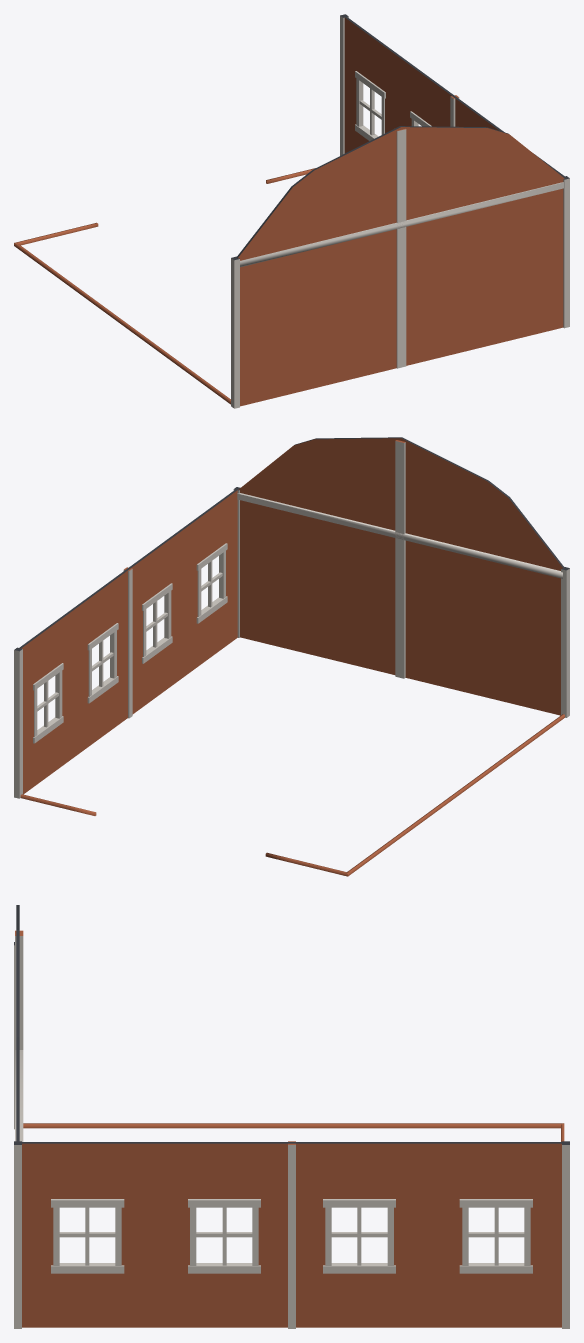
Rendered from OpenShed.fbx.
The picture shows the model from 3 angles, top to bottom: view 1: azimuth 30°, elevation 25°; view 2: azimuth 150°, elevation 25°; view 3: azimuth 270°, elevation 25°; orthographic projection. The views are drawn at different scales.
Parts seen in each view (by area): view 1: BG1.002; view 2: BG1.002; view 3: BG1.002.
Boxes of the visible parts, x1,y1,x2,y2 form: BG1.002: [14, 14, 569, 408]; BG1.002: [14, 437, 569, 876]; BG1.002: [14, 905, 569, 1328].
Bounding box in the file's own units: 5.91 × 6.84 × 4.04.
